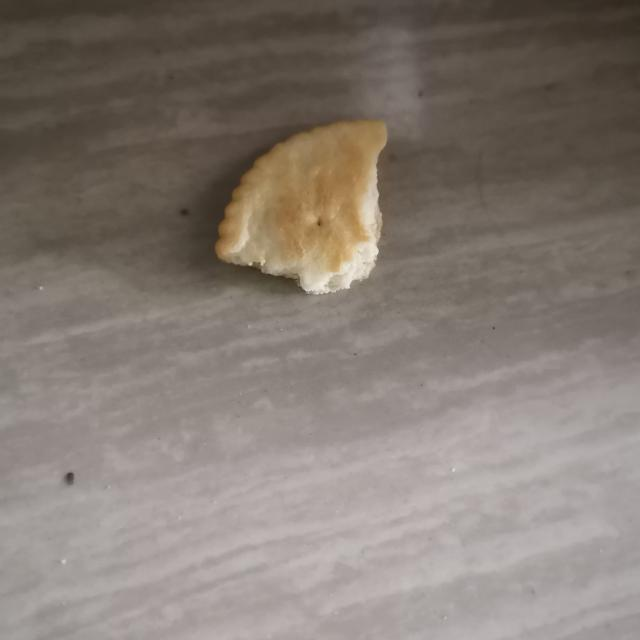Broken: (215, 117, 389, 295)
